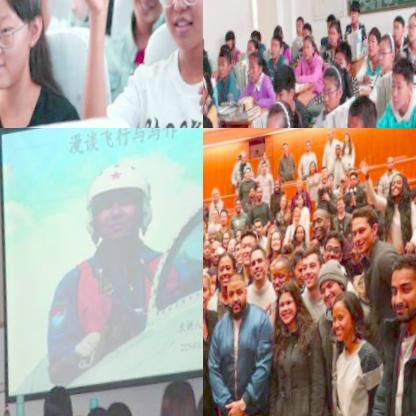head: (0, 0, 60, 105), (152, 0, 203, 54), (328, 292, 369, 349), (385, 252, 416, 324), (118, 0, 180, 31), (317, 261, 353, 314), (159, 377, 203, 416), (271, 61, 303, 113), (389, 59, 416, 116), (349, 210, 383, 255), (41, 380, 83, 416), (276, 282, 308, 329), (341, 94, 385, 128), (320, 64, 349, 114), (300, 247, 327, 293), (227, 276, 254, 319), (321, 234, 350, 274), (271, 255, 298, 297), (377, 34, 401, 76), (217, 253, 242, 293), (263, 101, 300, 128), (248, 246, 273, 285), (290, 246, 313, 288), (309, 208, 334, 245), (239, 231, 263, 269), (333, 40, 356, 78), (246, 48, 269, 83), (103, 396, 143, 416), (81, 396, 118, 416), (217, 48, 236, 80), (366, 28, 385, 59), (388, 176, 409, 204), (203, 272, 217, 312), (268, 32, 286, 63), (302, 33, 319, 62), (327, 22, 345, 48), (392, 16, 408, 44), (232, 243, 249, 268), (209, 241, 227, 264), (348, 0, 364, 25), (271, 232, 285, 258), (273, 22, 288, 46), (324, 12, 340, 34), (203, 70, 212, 107), (247, 37, 262, 59), (406, 12, 416, 44), (227, 239, 241, 260), (301, 20, 315, 40), (384, 159, 397, 180), (251, 27, 265, 46), (295, 16, 307, 37), (348, 172, 360, 192), (336, 198, 348, 217), (295, 228, 308, 245), (225, 29, 237, 47), (218, 210, 230, 228), (253, 222, 265, 240), (338, 177, 350, 195), (203, 241, 214, 260), (291, 212, 304, 228), (208, 228, 220, 245), (279, 195, 290, 212), (203, 29, 209, 59), (221, 234, 232, 250), (268, 226, 279, 242), (255, 187, 264, 205), (295, 195, 305, 211), (243, 168, 254, 182), (279, 144, 290, 158), (211, 210, 221, 225), (234, 230, 244, 245), (238, 152, 248, 167), (308, 163, 318, 178), (325, 176, 335, 191), (211, 189, 221, 203), (272, 182, 282, 196), (320, 168, 330, 182), (247, 188, 257, 201), (341, 135, 351, 148), (260, 163, 269, 176), (260, 152, 269, 165), (325, 131, 334, 144), (235, 201, 243, 215), (296, 179, 304, 193), (302, 143, 312, 154), (334, 147, 342, 160), (203, 224, 208, 242), (203, 188, 206, 205)
